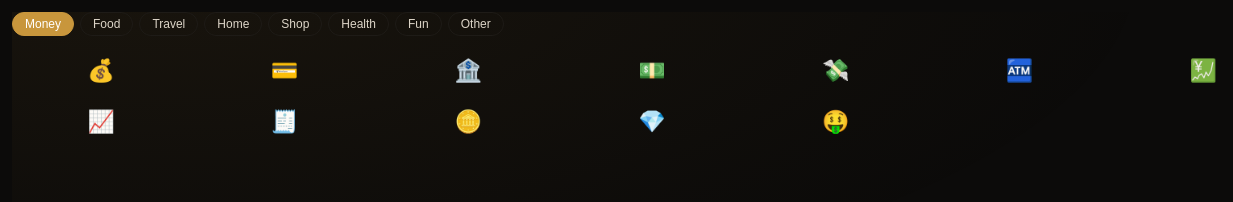
Scenario: EmojiPicker › clicking a different tab switches the emoji grid
Click the button "Food".
click(107, 24)  # box 80,12 -> 133,36
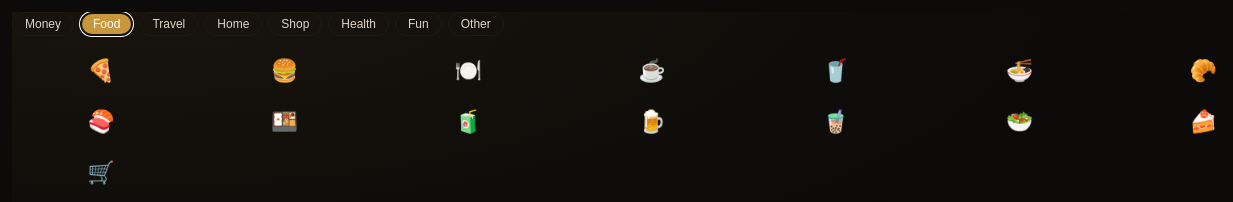
Result: the text "🍕" is shown at 87,56 -> 115,85
Result: the text "💰" is gone
